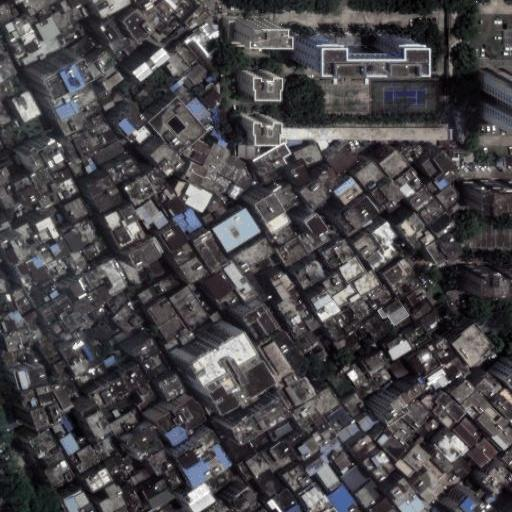building: (174, 320, 261, 407), (169, 426, 231, 491), (297, 29, 406, 65), (148, 95, 207, 158), (153, 395, 213, 450), (160, 223, 209, 285), (230, 399, 286, 444), (212, 207, 262, 255), (370, 77, 438, 112), (94, 364, 149, 405), (311, 73, 365, 113), (42, 59, 94, 100), (474, 69, 512, 122), (293, 387, 342, 427), (420, 387, 465, 430), (70, 120, 118, 160), (98, 205, 139, 250), (8, 245, 48, 289), (170, 285, 208, 331), (53, 83, 99, 120), (242, 301, 282, 342), (185, 160, 230, 196), (62, 103, 108, 138), (62, 336, 101, 376), (127, 421, 166, 460), (71, 283, 111, 321), (26, 139, 67, 176), (191, 231, 227, 273), (397, 214, 435, 253), (121, 41, 161, 78), (150, 298, 186, 339), (139, 272, 181, 307), (223, 261, 257, 303), (255, 193, 290, 233), (466, 182, 512, 211), (254, 142, 291, 178), (234, 238, 273, 272), (461, 268, 512, 294), (96, 257, 129, 297), (81, 403, 113, 443), (261, 337, 293, 376), (297, 481, 337, 512), (99, 16, 132, 53), (344, 196, 378, 231), (283, 375, 318, 409), (32, 172, 64, 209), (288, 430, 323, 463), (107, 155, 143, 186), (261, 436, 294, 469), (374, 427, 407, 460), (363, 450, 396, 483), (123, 9, 155, 43), (11, 88, 43, 122), (134, 199, 169, 230), (268, 267, 299, 302), (437, 481, 471, 512), (204, 268, 234, 303), (294, 259, 326, 291), (284, 463, 316, 495), (329, 143, 360, 176), (157, 370, 188, 403), (145, 445, 176, 478), (128, 241, 162, 271), (377, 297, 411, 327), (277, 236, 309, 267), (463, 323, 494, 355), (401, 400, 432, 432), (25, 278, 57, 309), (111, 304, 141, 337), (35, 295, 71, 322), (124, 175, 155, 206), (379, 149, 410, 180), (322, 238, 353, 269), (452, 334, 483, 365), (412, 472, 443, 503), (481, 465, 512, 496), (355, 161, 385, 193), (341, 462, 371, 494), (436, 433, 468, 463), (50, 168, 79, 201), (202, 141, 231, 174), (353, 478, 382, 511), (15, 175, 43, 209), (469, 227, 512, 249), (232, 20, 275, 42), (363, 281, 394, 311), (300, 223, 331, 253), (401, 442, 431, 473), (345, 431, 375, 462), (161, 49, 191, 79), (254, 468, 283, 499), (478, 406, 507, 437), (117, 108, 148, 137), (275, 117, 314, 140), (187, 482, 216, 512), (45, 460, 75, 489), (140, 351, 170, 380), (31, 215, 60, 245), (92, 186, 123, 214), (185, 184, 213, 215), (135, 382, 161, 415), (92, 141, 125, 167), (237, 67, 272, 91), (334, 176, 362, 205), (416, 197, 444, 226), (338, 255, 367, 283), (5, 326, 34, 354), (382, 259, 412, 286), (268, 220, 298, 247), (76, 443, 102, 474), (108, 410, 139, 436), (14, 365, 46, 390), (352, 269, 380, 297), (389, 478, 417, 506), (332, 283, 361, 310), (294, 142, 324, 168), (453, 418, 479, 448), (268, 487, 299, 512), (459, 389, 490, 414), (240, 108, 268, 135), (335, 306, 362, 334), (84, 467, 113, 493), (244, 450, 270, 479), (421, 307, 450, 333), (37, 333, 61, 364), (3, 347, 34, 371), (30, 431, 57, 458), (389, 418, 416, 445), (301, 181, 328, 208), (221, 154, 247, 182), (352, 232, 378, 260), (361, 349, 389, 375), (342, 361, 368, 389), (366, 386, 394, 412), (181, 140, 210, 165), (52, 7, 83, 30), (470, 439, 496, 466), (14, 32, 41, 58), (428, 442, 454, 469), (380, 178, 405, 206), (387, 374, 415, 399), (391, 272, 419, 297), (74, 365, 105, 387), (185, 6, 211, 32), (42, 236, 68, 262), (318, 167, 343, 194), (432, 149, 457, 176), (412, 349, 439, 374), (227, 488, 255, 512), (147, 487, 176, 510), (64, 197, 89, 223), (313, 424, 338, 450), (371, 187, 396, 213), (186, 96, 210, 123), (35, 17, 59, 44), (87, 175, 115, 198), (12, 288, 35, 316), (428, 211, 453, 236), (184, 61, 209, 86), (289, 203, 314, 228), (150, 142, 174, 168), (425, 240, 449, 266), (372, 222, 396, 248), (410, 300, 436, 324), (305, 453, 331, 477), (362, 315, 386, 341), (343, 392, 367, 418), (384, 358, 410, 382), (42, 257, 68, 281), (339, 330, 363, 355), (492, 389, 512, 419), (399, 176, 424, 200), (67, 251, 91, 276), (63, 227, 86, 253), (268, 421, 294, 444), (318, 465, 341, 491), (17, 222, 40, 248), (309, 289, 333, 313), (476, 373, 500, 397), (422, 362, 447, 385), (80, 238, 105, 261), (142, 477, 168, 499), (274, 183, 297, 207), (0, 181, 19, 210), (393, 167, 418, 189), (76, 220, 98, 245), (161, 156, 187, 177), (61, 137, 81, 164), (99, 493, 127, 512), (63, 280, 86, 303), (43, 446, 66, 469), (296, 328, 319, 351), (451, 380, 474, 403), (332, 451, 355, 474), (164, 466, 186, 490), (72, 37, 96, 59), (59, 308, 81, 332), (327, 406, 352, 427), (324, 315, 345, 340), (30, 406, 50, 432), (175, 41, 197, 64), (450, 456, 472, 479), (52, 385, 73, 409), (59, 433, 80, 457), (388, 340, 412, 361), (129, 125, 153, 146), (335, 211, 355, 236), (409, 189, 431, 211), (12, 15, 33, 38), (31, 241, 50, 266), (438, 185, 459, 207), (422, 157, 442, 180), (35, 383, 55, 406), (0, 56, 17, 83), (400, 145, 424, 164), (369, 494, 394, 512), (399, 495, 425, 512), (165, 195, 185, 217), (95, 89, 114, 112), (495, 426, 512, 451), (130, 467, 151, 487), (95, 52, 115, 73), (135, 82, 156, 102), (0, 151, 20, 172), (132, 338, 154, 357), (424, 460, 446, 479), (407, 286, 427, 306), (103, 479, 123, 499), (287, 164, 306, 185), (0, 2, 19, 23), (200, 90, 221, 109), (431, 375, 452, 394), (436, 348, 458, 366), (323, 441, 343, 460), (451, 355, 469, 376), (81, 154, 99, 175), (46, 315, 64, 336), (237, 497, 262, 512), (365, 250, 384, 269), (148, 258, 166, 278), (50, 357, 68, 377), (441, 360, 459, 380), (105, 72, 125, 90), (263, 169, 284, 186), (358, 413, 377, 431), (168, 75, 187, 93), (0, 290, 14, 314), (208, 499, 233, 512), (395, 460, 414, 477), (175, 0, 194, 17), (111, 450, 127, 470), (343, 420, 360, 438), (402, 321, 420, 338), (70, 160, 87, 178), (50, 404, 65, 424), (214, 206, 231, 223), (382, 242, 398, 260), (237, 144, 255, 159), (386, 335, 405, 349), (304, 315, 320, 331), (239, 461, 253, 479), (229, 186, 244, 201), (92, 307, 107, 322), (212, 107, 227, 122), (335, 427, 349, 443), (398, 315, 414, 329), (208, 311, 223, 325), (27, 323, 41, 338), (284, 372, 298, 386), (502, 446, 512, 465), (291, 324, 305, 337), (437, 139, 459, 147), (435, 178, 449, 190), (103, 356, 116, 368), (0, 212, 10, 227), (21, 312, 37, 321), (9, 29, 21, 41), (164, 185, 175, 198), (67, 0, 90, 6), (202, 213, 214, 224), (115, 332, 127, 343), (37, 9, 48, 20), (112, 407, 122, 419), (387, 504, 401, 512), (335, 338, 344, 350), (13, 314, 23, 324), (5, 22, 15, 32), (505, 155, 512, 169), (184, 80, 193, 89), (109, 340, 114, 346)
